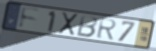1: (47, 10, 57, 34)
7: (117, 20, 137, 43)
B: (75, 14, 99, 39)
F: (18, 6, 41, 30)
R: (96, 17, 119, 41)
X: (57, 11, 80, 37)
